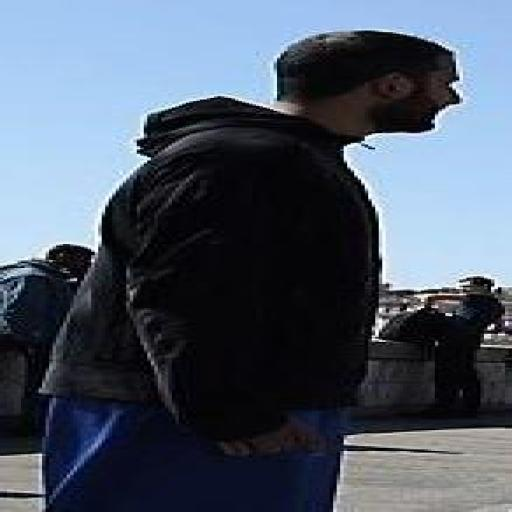person: (43, 31, 459, 511), (0, 244, 94, 431), (421, 277, 504, 417)
